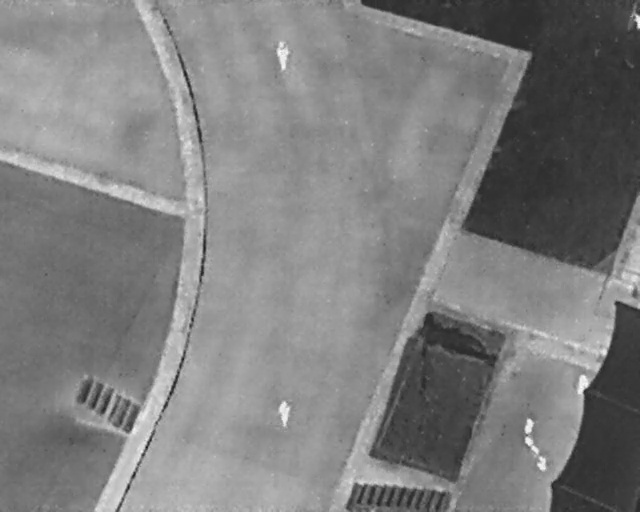Person: (273, 38, 294, 73), (276, 398, 292, 429)
